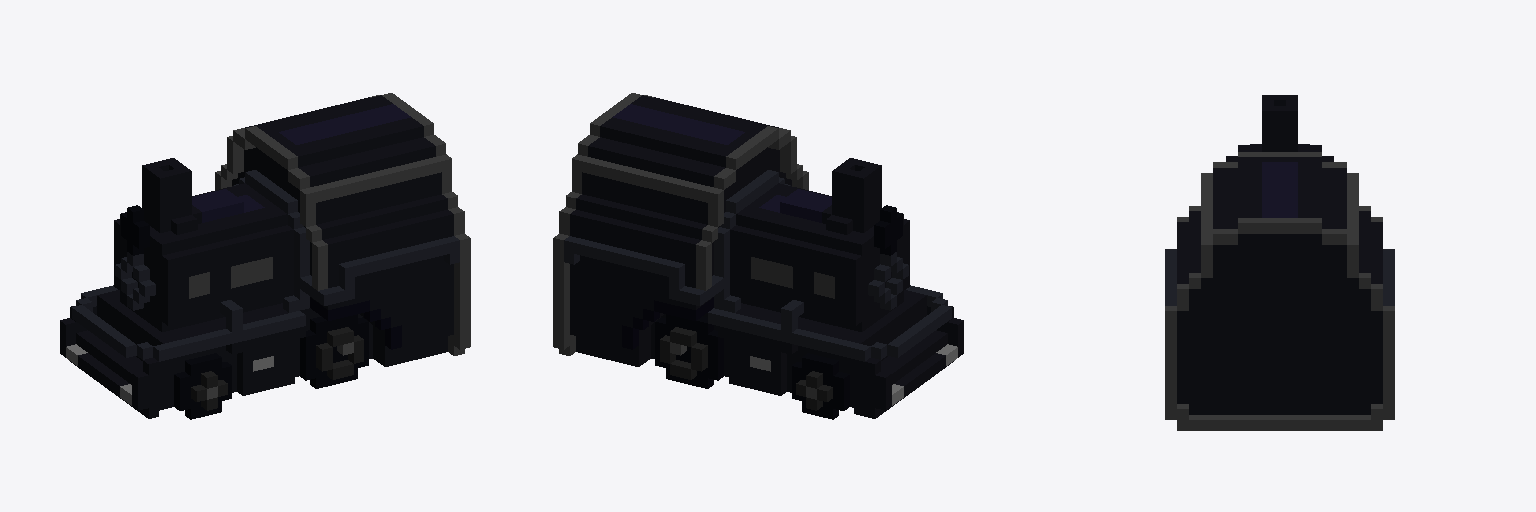
3 renders of one model, left to right at view 1: azimuth 30°, elevation 25°; view 2: azimuth 150°, elevation 25°; view 3: azimuth 270°, elevation 25°, orthographic.
Parts seen in each view (by area): view 1: object 1; view 2: object 1; view 3: object 1.
Part boxes in pixels (x1,y1,x2,y2): object 1: (60,93,470,419); object 1: (553,93,963,419); object 1: (1165,95,1394,430).
Bounding box in the file's own units: 3 × 2 × 1.9.
1 materials, 1 textured.